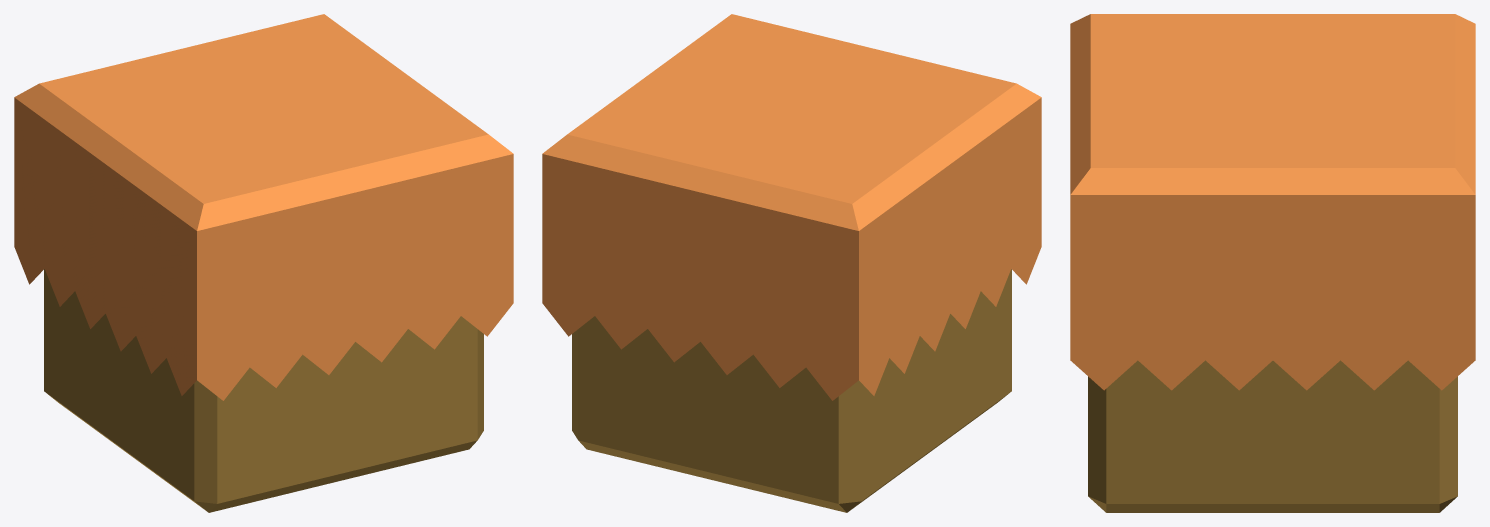
The model's file is GrassRadiant3.glb.
The picture shows the model from 3 angles, left to right: view 1: azimuth 30°, elevation 25°; view 2: azimuth 150°, elevation 25°; view 3: azimuth 270°, elevation 25°; orthographic projection. The views are drawn at different scales.
Parts seen in each view (by area): view 1: Cube.025; view 2: Cube.025; view 3: Cube.025.
Boxes of the visible parts, x1,y1,x2,y2 form: Cube.025: (14,14,513,512); Cube.025: (542,14,1041,512); Cube.025: (1070,14,1475,512).
Bounding box in the file's own units: 2.19 × 2.09 × 2.19.
Materials: 2 (1 with a texture image).
